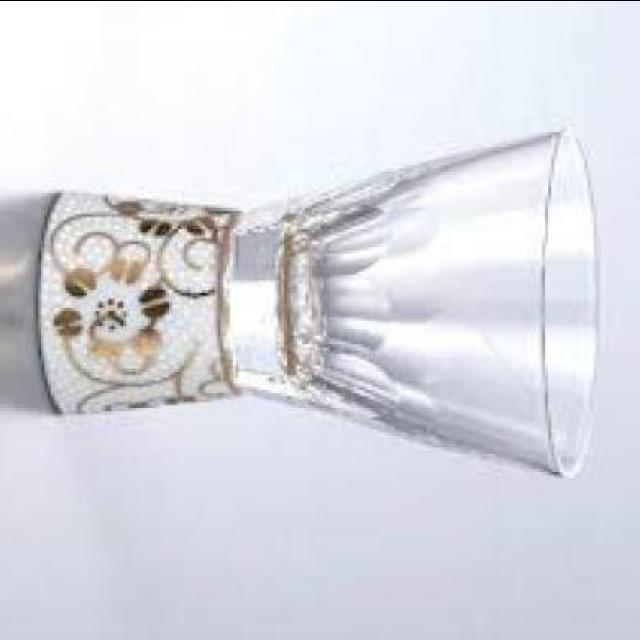kaca: (230, 128, 599, 474)
